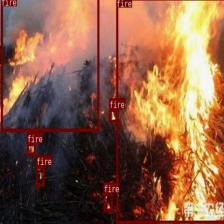fire: (115, 0, 224, 222), (0, 0, 99, 131), (103, 192, 112, 212), (36, 165, 44, 186), (109, 108, 118, 122), (27, 142, 36, 154)
